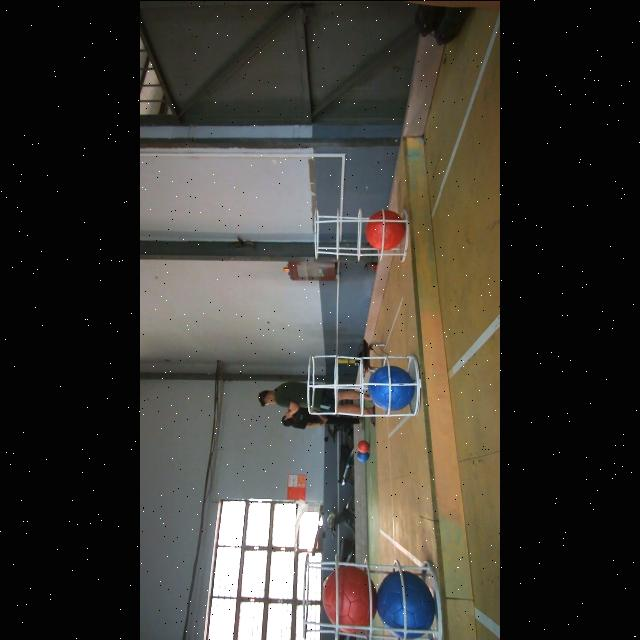B: (378, 568, 434, 640), (367, 364, 415, 411)
R: (322, 564, 376, 632), (366, 210, 406, 248)
